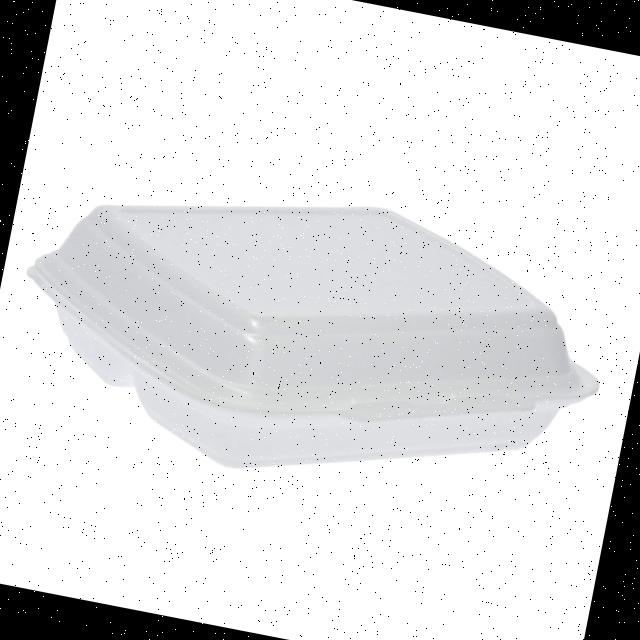styrofoam: (0, 140, 626, 534)
